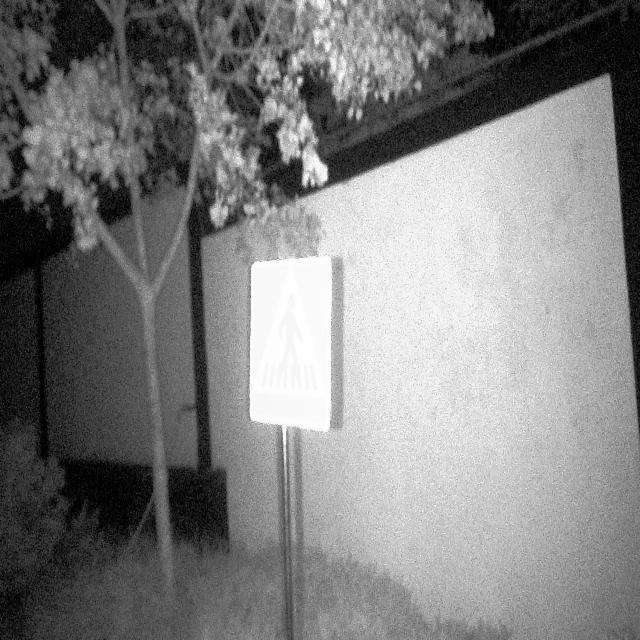Sign: (249, 255, 334, 435)
Tree: (52, 0, 208, 583)
